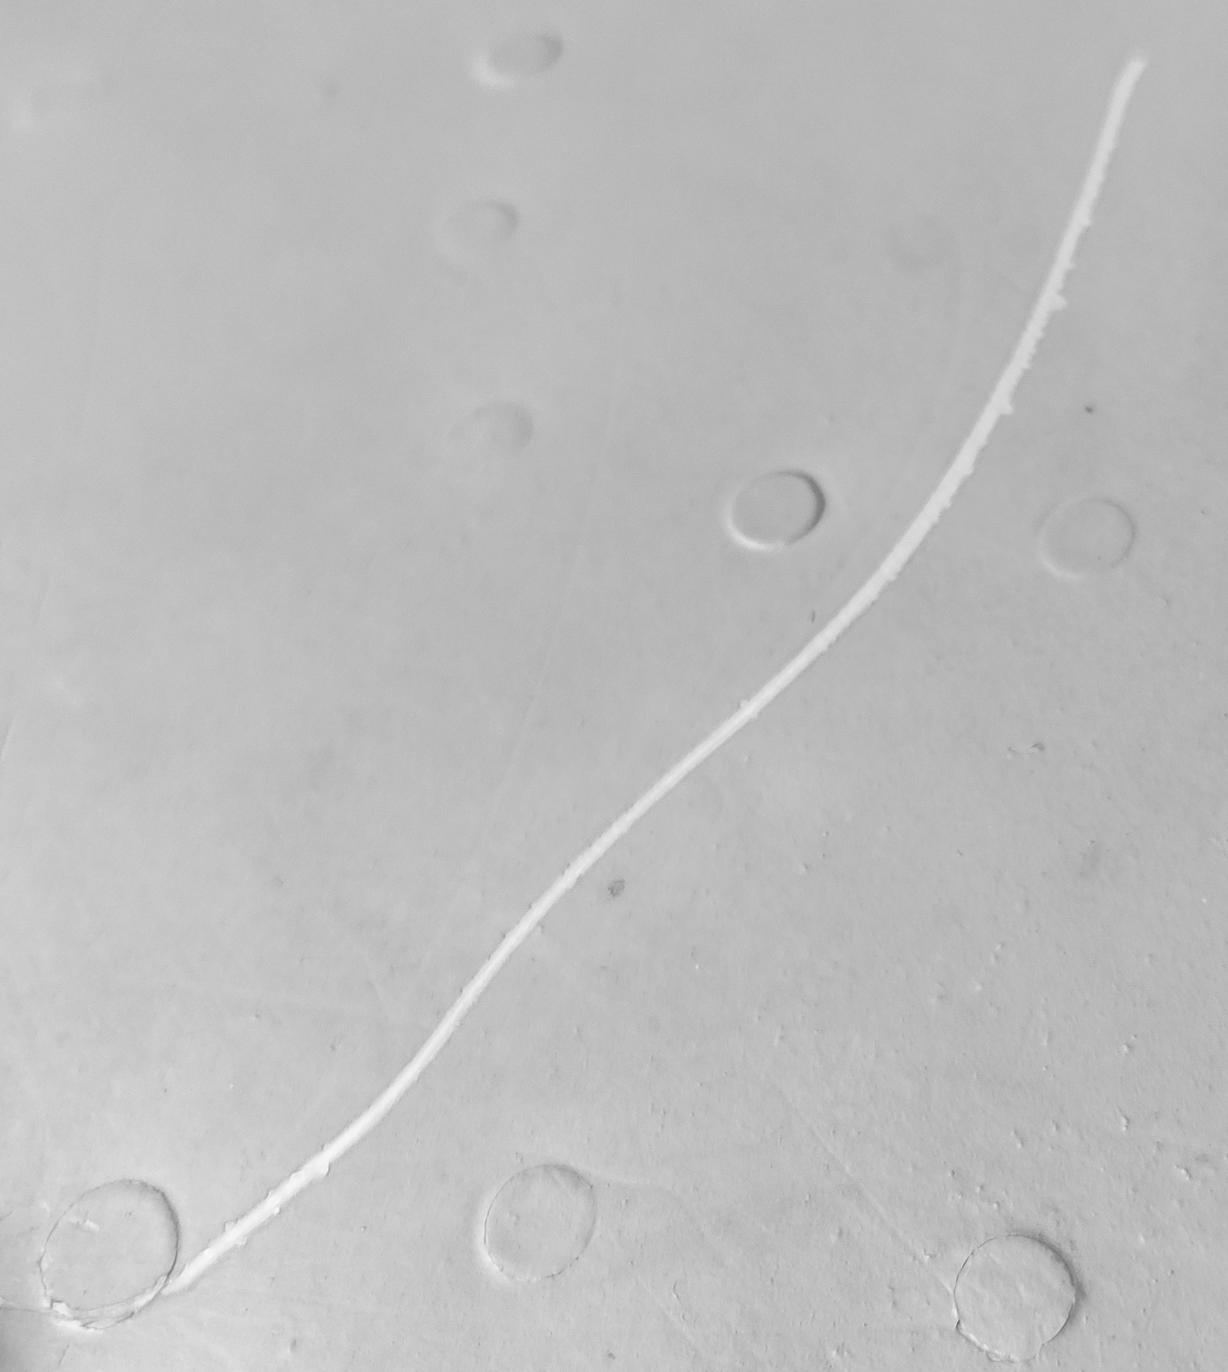scratch: (0, 1, 1228, 1372)
